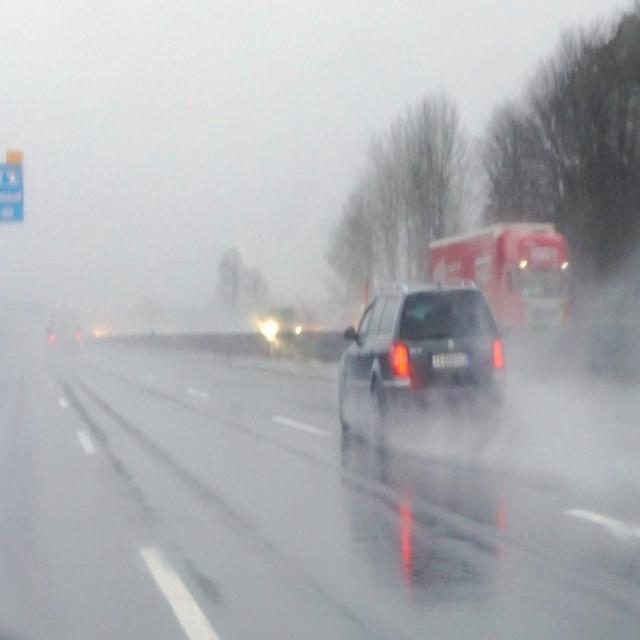Car: (337, 290, 510, 440)
Truck: (423, 223, 575, 357)
